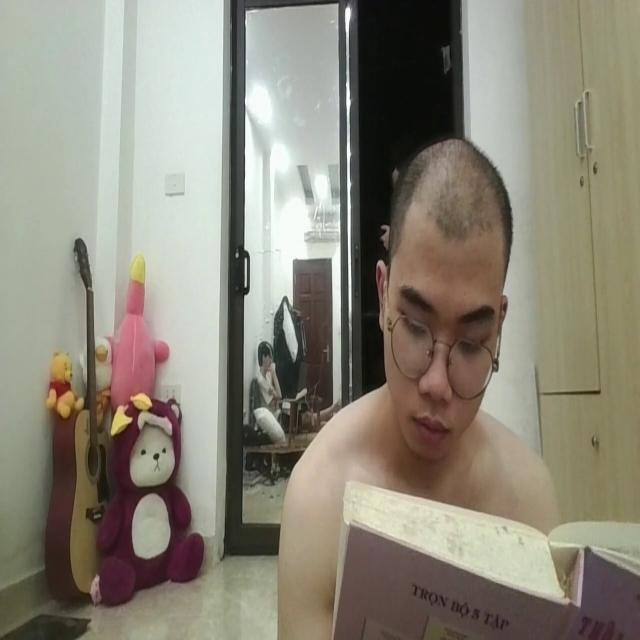book: (327, 472, 640, 639)
extra_person: (248, 332, 286, 434)
student: (274, 130, 562, 640)
